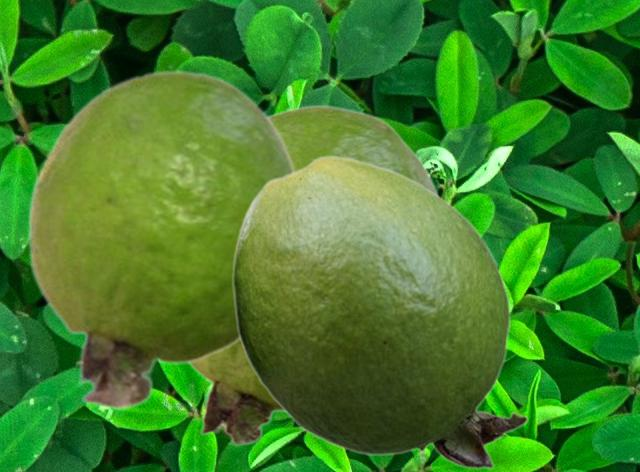guava: (231, 154, 528, 468), (27, 68, 298, 410), (189, 104, 441, 446)
